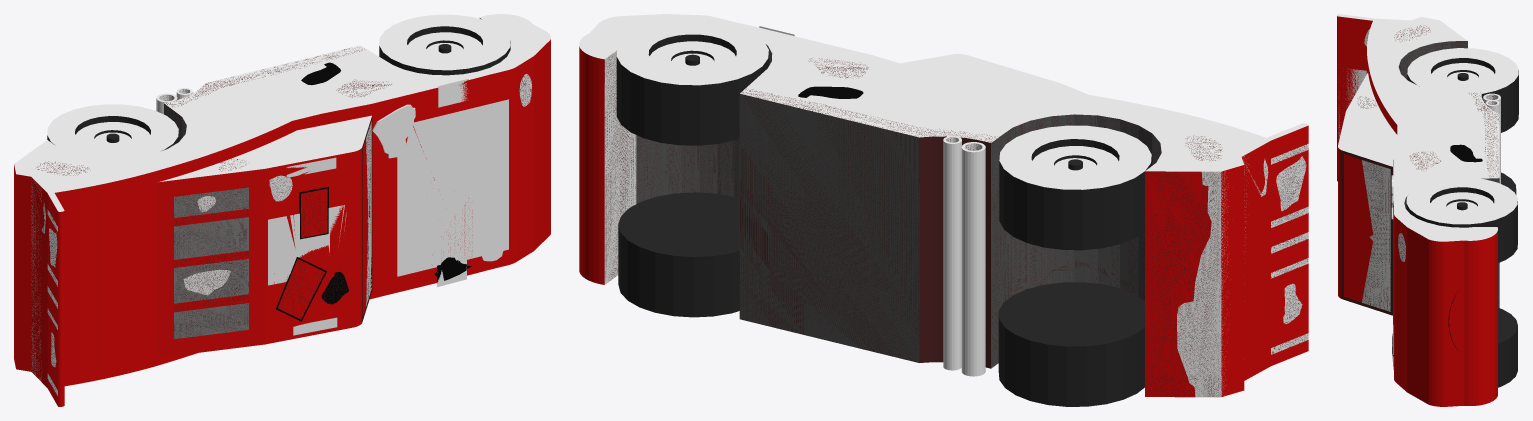
The picture shows the model from 3 angles, left to right: view 1: azimuth 30°, elevation 25°; view 2: azimuth 150°, elevation 25°; view 3: azimuth 270°, elevation 25°; orthographic projection. The views are drawn at different scales.
Parts seen in each view (by area): view 1: cactus mcqueen; view 2: cactus mcqueen; view 3: cactus mcqueen.
Boxes of the visible parts, bbox=[...] form: cactus mcqueen: bbox=[14, 14, 550, 406]; cactus mcqueen: bbox=[579, 14, 1308, 406]; cactus mcqueen: bbox=[1337, 14, 1518, 406].
Bounding box in the file's own units: 243 × 85.21 × 81.94.
